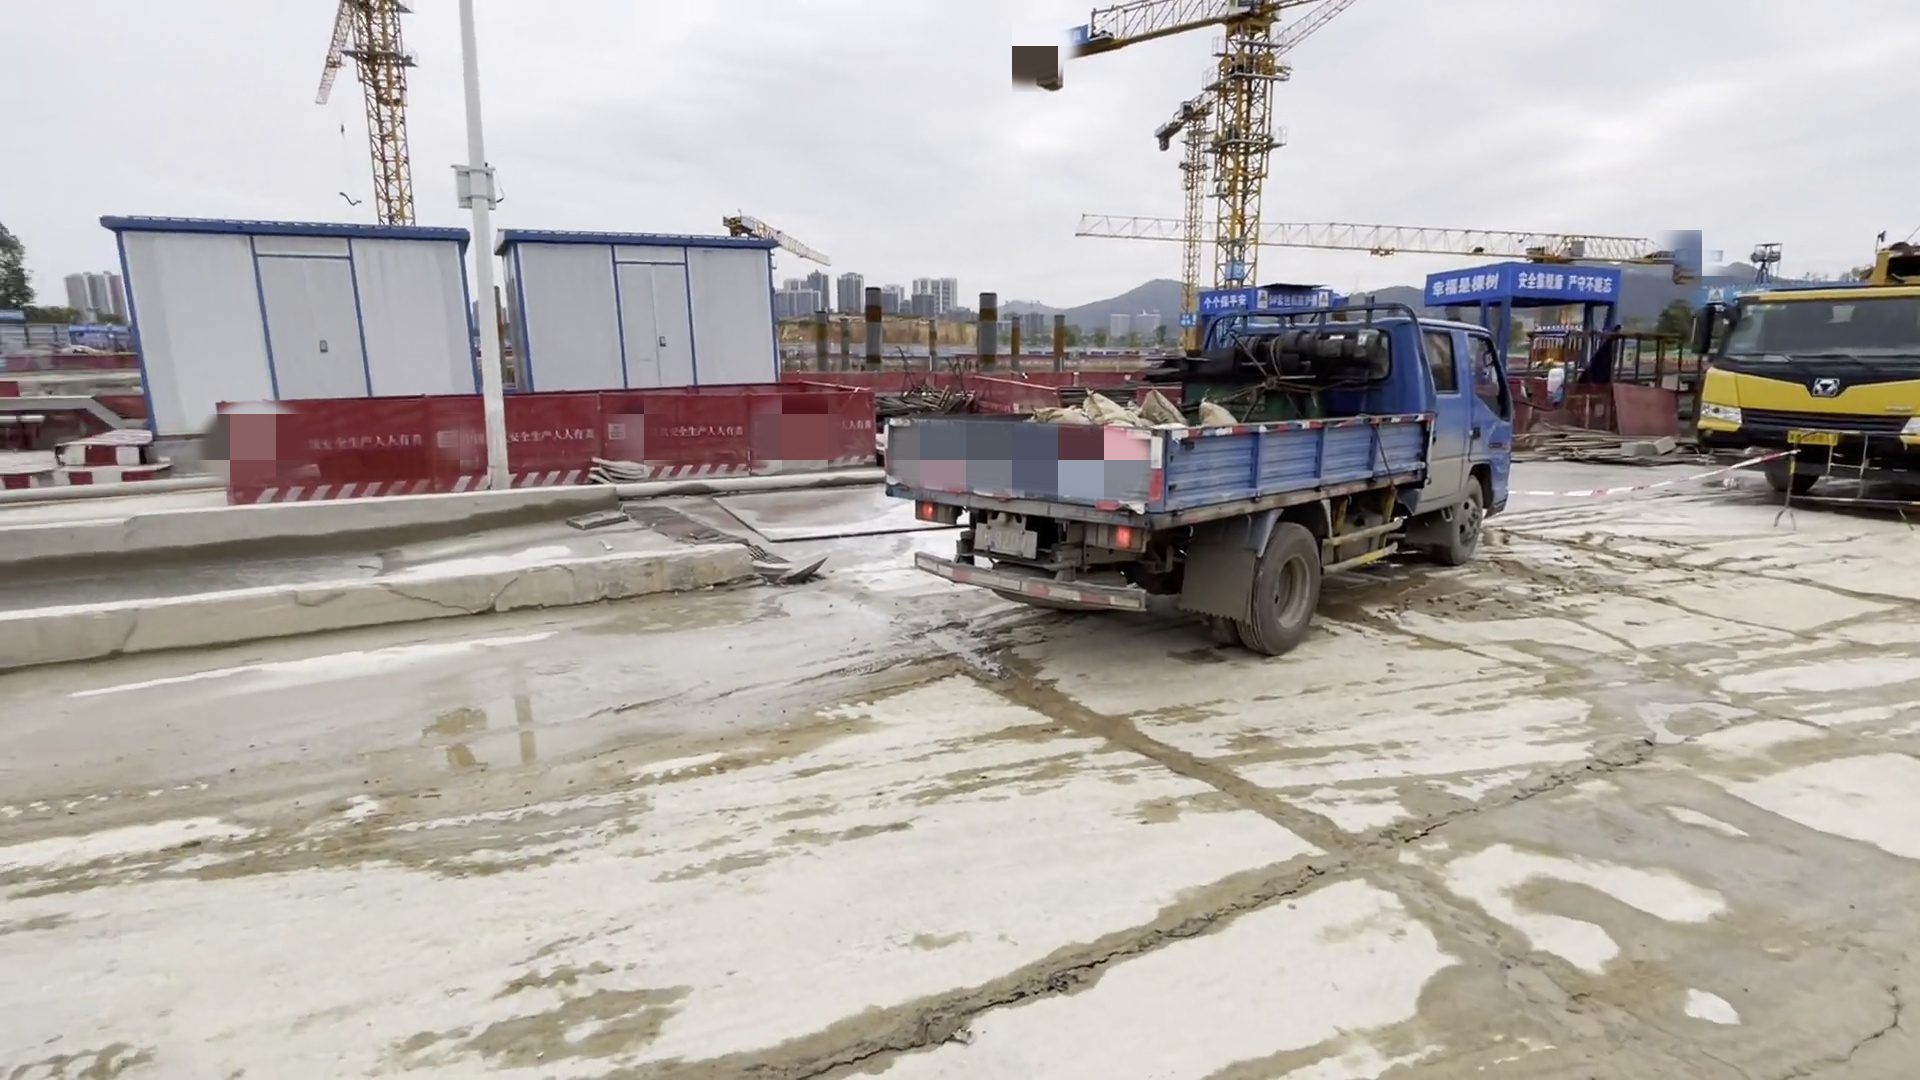slogan: (1412, 253, 1617, 320), (1207, 277, 1332, 314)
